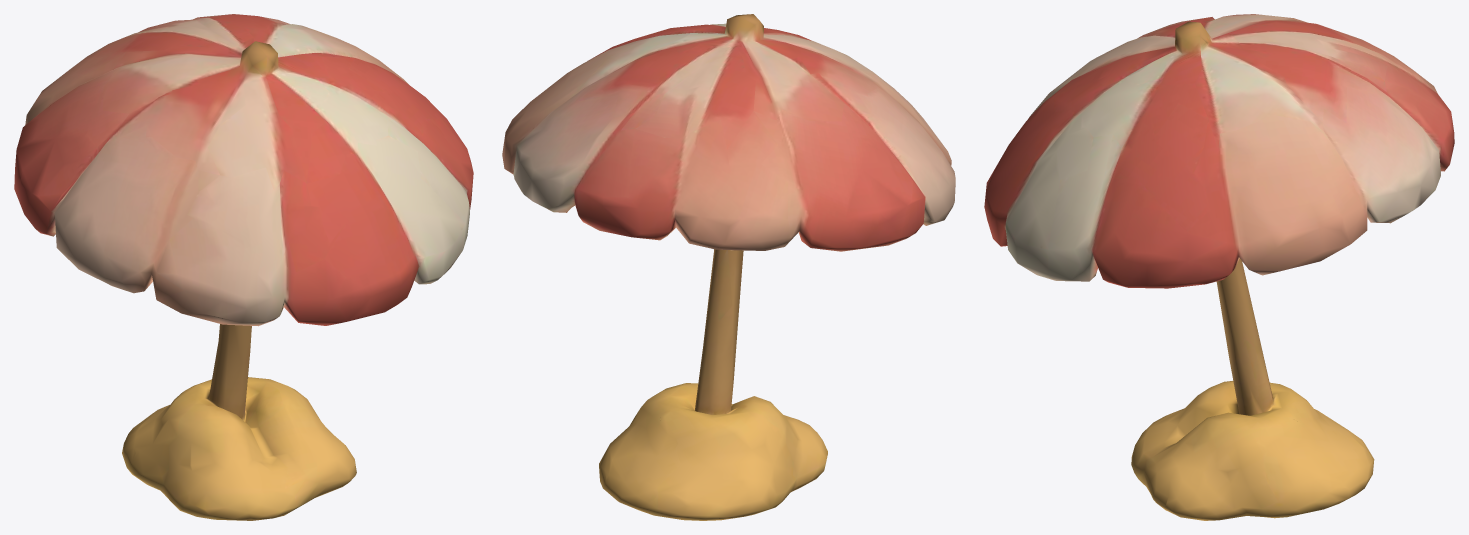
Rendered from f-umbrella.glb.
3 renders of one model, left to right at view 1: azimuth 30°, elevation 25°; view 2: azimuth 150°, elevation 25°; view 3: azimuth 270°, elevation 25°, orthographic.
Parts seen in each view (by area): view 1: tripo_node_ac9dfdd9-e9ae-4cd7-bf07-8071d28f564a; view 2: tripo_node_ac9dfdd9-e9ae-4cd7-bf07-8071d28f564a; view 3: tripo_node_ac9dfdd9-e9ae-4cd7-bf07-8071d28f564a.
Boxes of the visible parts, bbox=[...] form: tripo_node_ac9dfdd9-e9ae-4cd7-bf07-8071d28f564a: bbox=[14, 14, 473, 520]; tripo_node_ac9dfdd9-e9ae-4cd7-bf07-8071d28f564a: bbox=[502, 14, 955, 520]; tripo_node_ac9dfdd9-e9ae-4cd7-bf07-8071d28f564a: bbox=[984, 14, 1454, 520].
Size of the model in its own units: 0.915 by 1 by 0.9357.
1 material, 1 textured.
